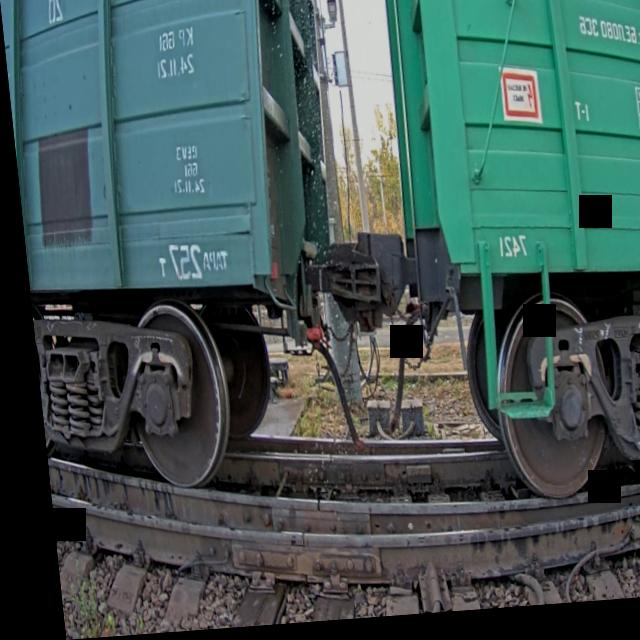gondola: (0, 0, 363, 547), (369, 0, 640, 554)
